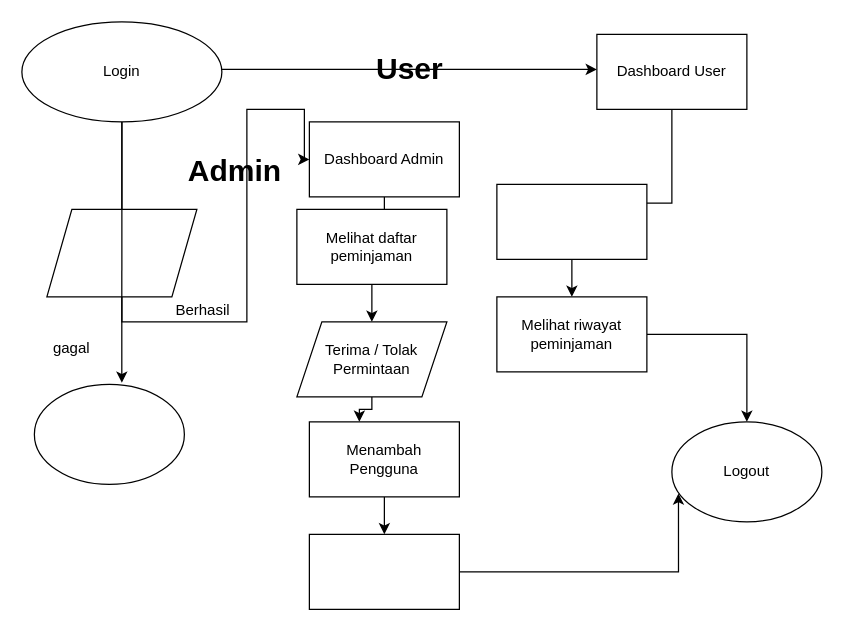
Image size: 844x631. Some labels were removed from this diagram. The box of each missing label's shape, as (x1, y1, x2, y2) in pixels:
Gagal Login: (33, 383, 184, 484)
Input Username & Password: (46, 208, 197, 297)
Menambah Dokumen: (308, 533, 459, 609)
Permintaan Peminjaman Dokumen: (496, 183, 647, 259)
